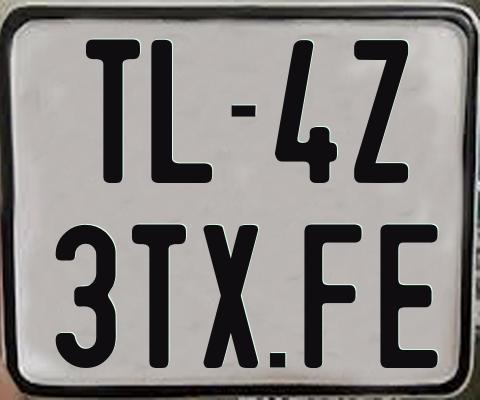3: (55, 222, 121, 369)
4: (274, 40, 342, 183)
E: (377, 224, 438, 368)
F: (304, 222, 364, 366)
L: (151, 40, 217, 183)
T: (85, 39, 143, 185), (131, 223, 186, 373)
X: (200, 223, 261, 368)
Z: (353, 40, 410, 187)
